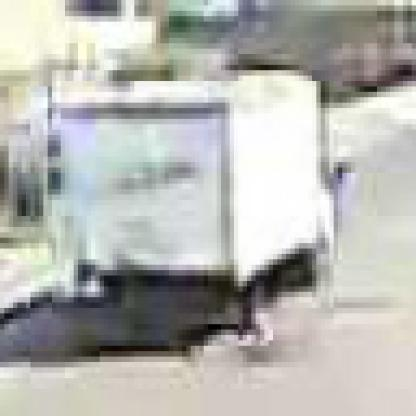truck: (49, 71, 335, 331)
